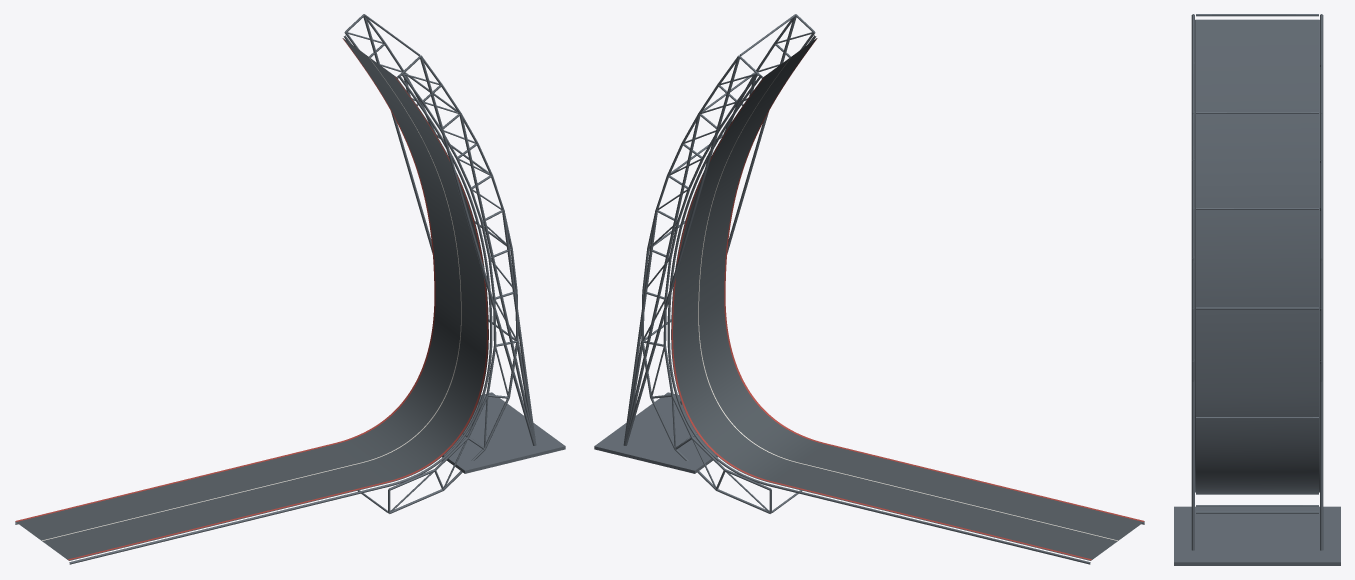
File: launch-ramp.glb
3 views of the same model, side by side, from view 1: azimuth 30°, elevation 25°; view 2: azimuth 150°, elevation 25°; view 3: azimuth 270°, elevation 25° (orthographic). The views are drawn at different scales.
Visible parts, largest first — view 1: Launch_Ramp_visual_reconstruction; view 2: Launch_Ramp_visual_reconstruction; view 3: Launch_Ramp_visual_reconstruction.
Part boxes in pixels (x1,y1,x2,y2): Launch_Ramp_visual_reconstruction: (15,14,565,564); Launch_Ramp_visual_reconstruction: (594,14,1144,564); Launch_Ramp_visual_reconstruction: (1174,14,1340,565).
Size of the model in its own units: 29 by 25.67 by 7.6.
